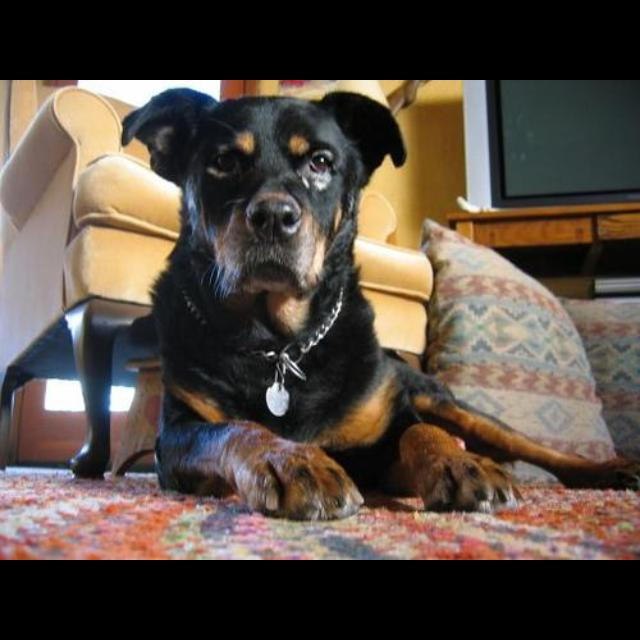rottweiler: (119, 86, 639, 522)
